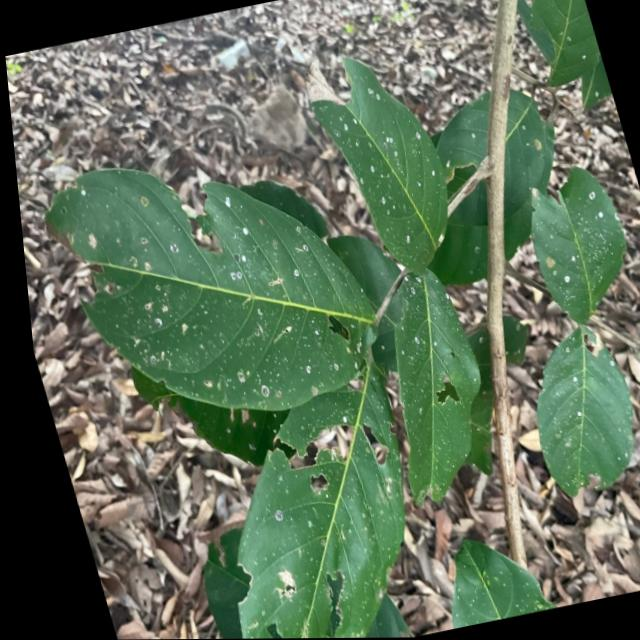Algal Leaf Spot: (25, 129, 395, 437), (301, 288, 522, 504), (314, 76, 464, 287), (520, 163, 640, 298)
